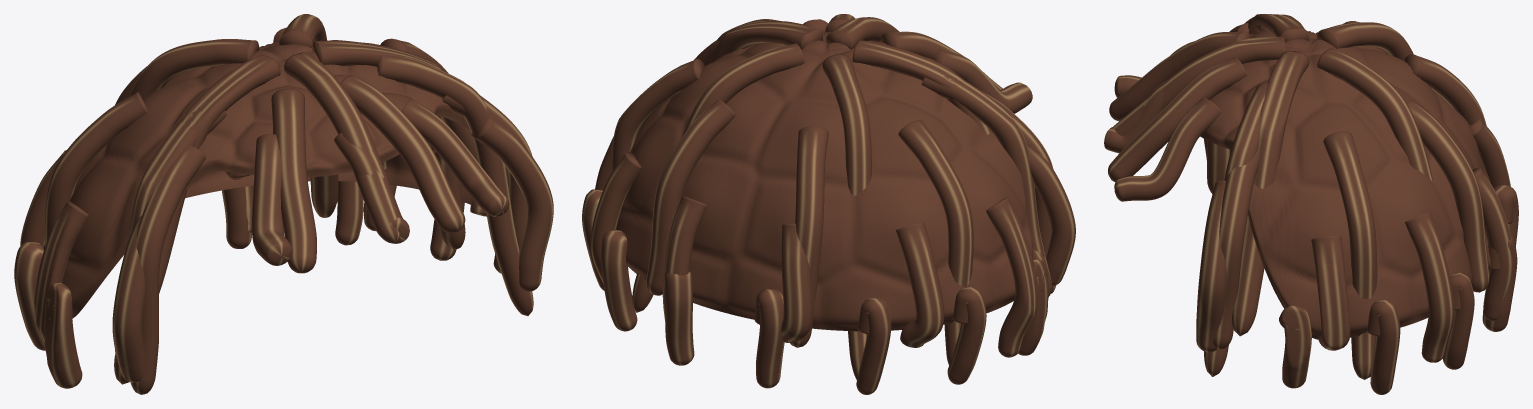
File: Highlights-1ee73f66b1e4252-hair.glb
The picture shows the model from 3 angles, left to right: view 1: azimuth 30°, elevation 25°; view 2: azimuth 150°, elevation 25°; view 3: azimuth 270°, elevation 25°; orthographic projection. The views are drawn at different scales.
Parts seen in each view (by area): view 1: 226 hair / Hair252 / sectioned locs.001; view 2: 226 hair / Hair252 / sectioned locs.001; view 3: 226 hair / Hair252 / sectioned locs.001.
Part boxes in pixels (x1,y1,x2,y2): 226 hair / Hair252 / sectioned locs.001: (14,14,553,394); 226 hair / Hair252 / sectioned locs.001: (582,14,1075,394); 226 hair / Hair252 / sectioned locs.001: (1104,14,1518,394).
Size of the model in its own units: 1.07 by 0.6347 by 0.8956.
Materials: 1 (1 with a texture image).
